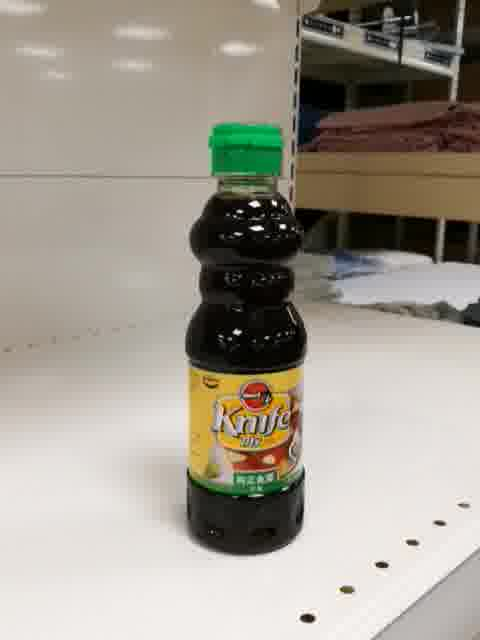cookingoil: (179, 119, 311, 559)
